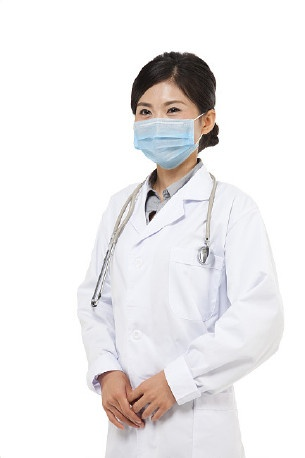Mask: (131, 98, 204, 171)
